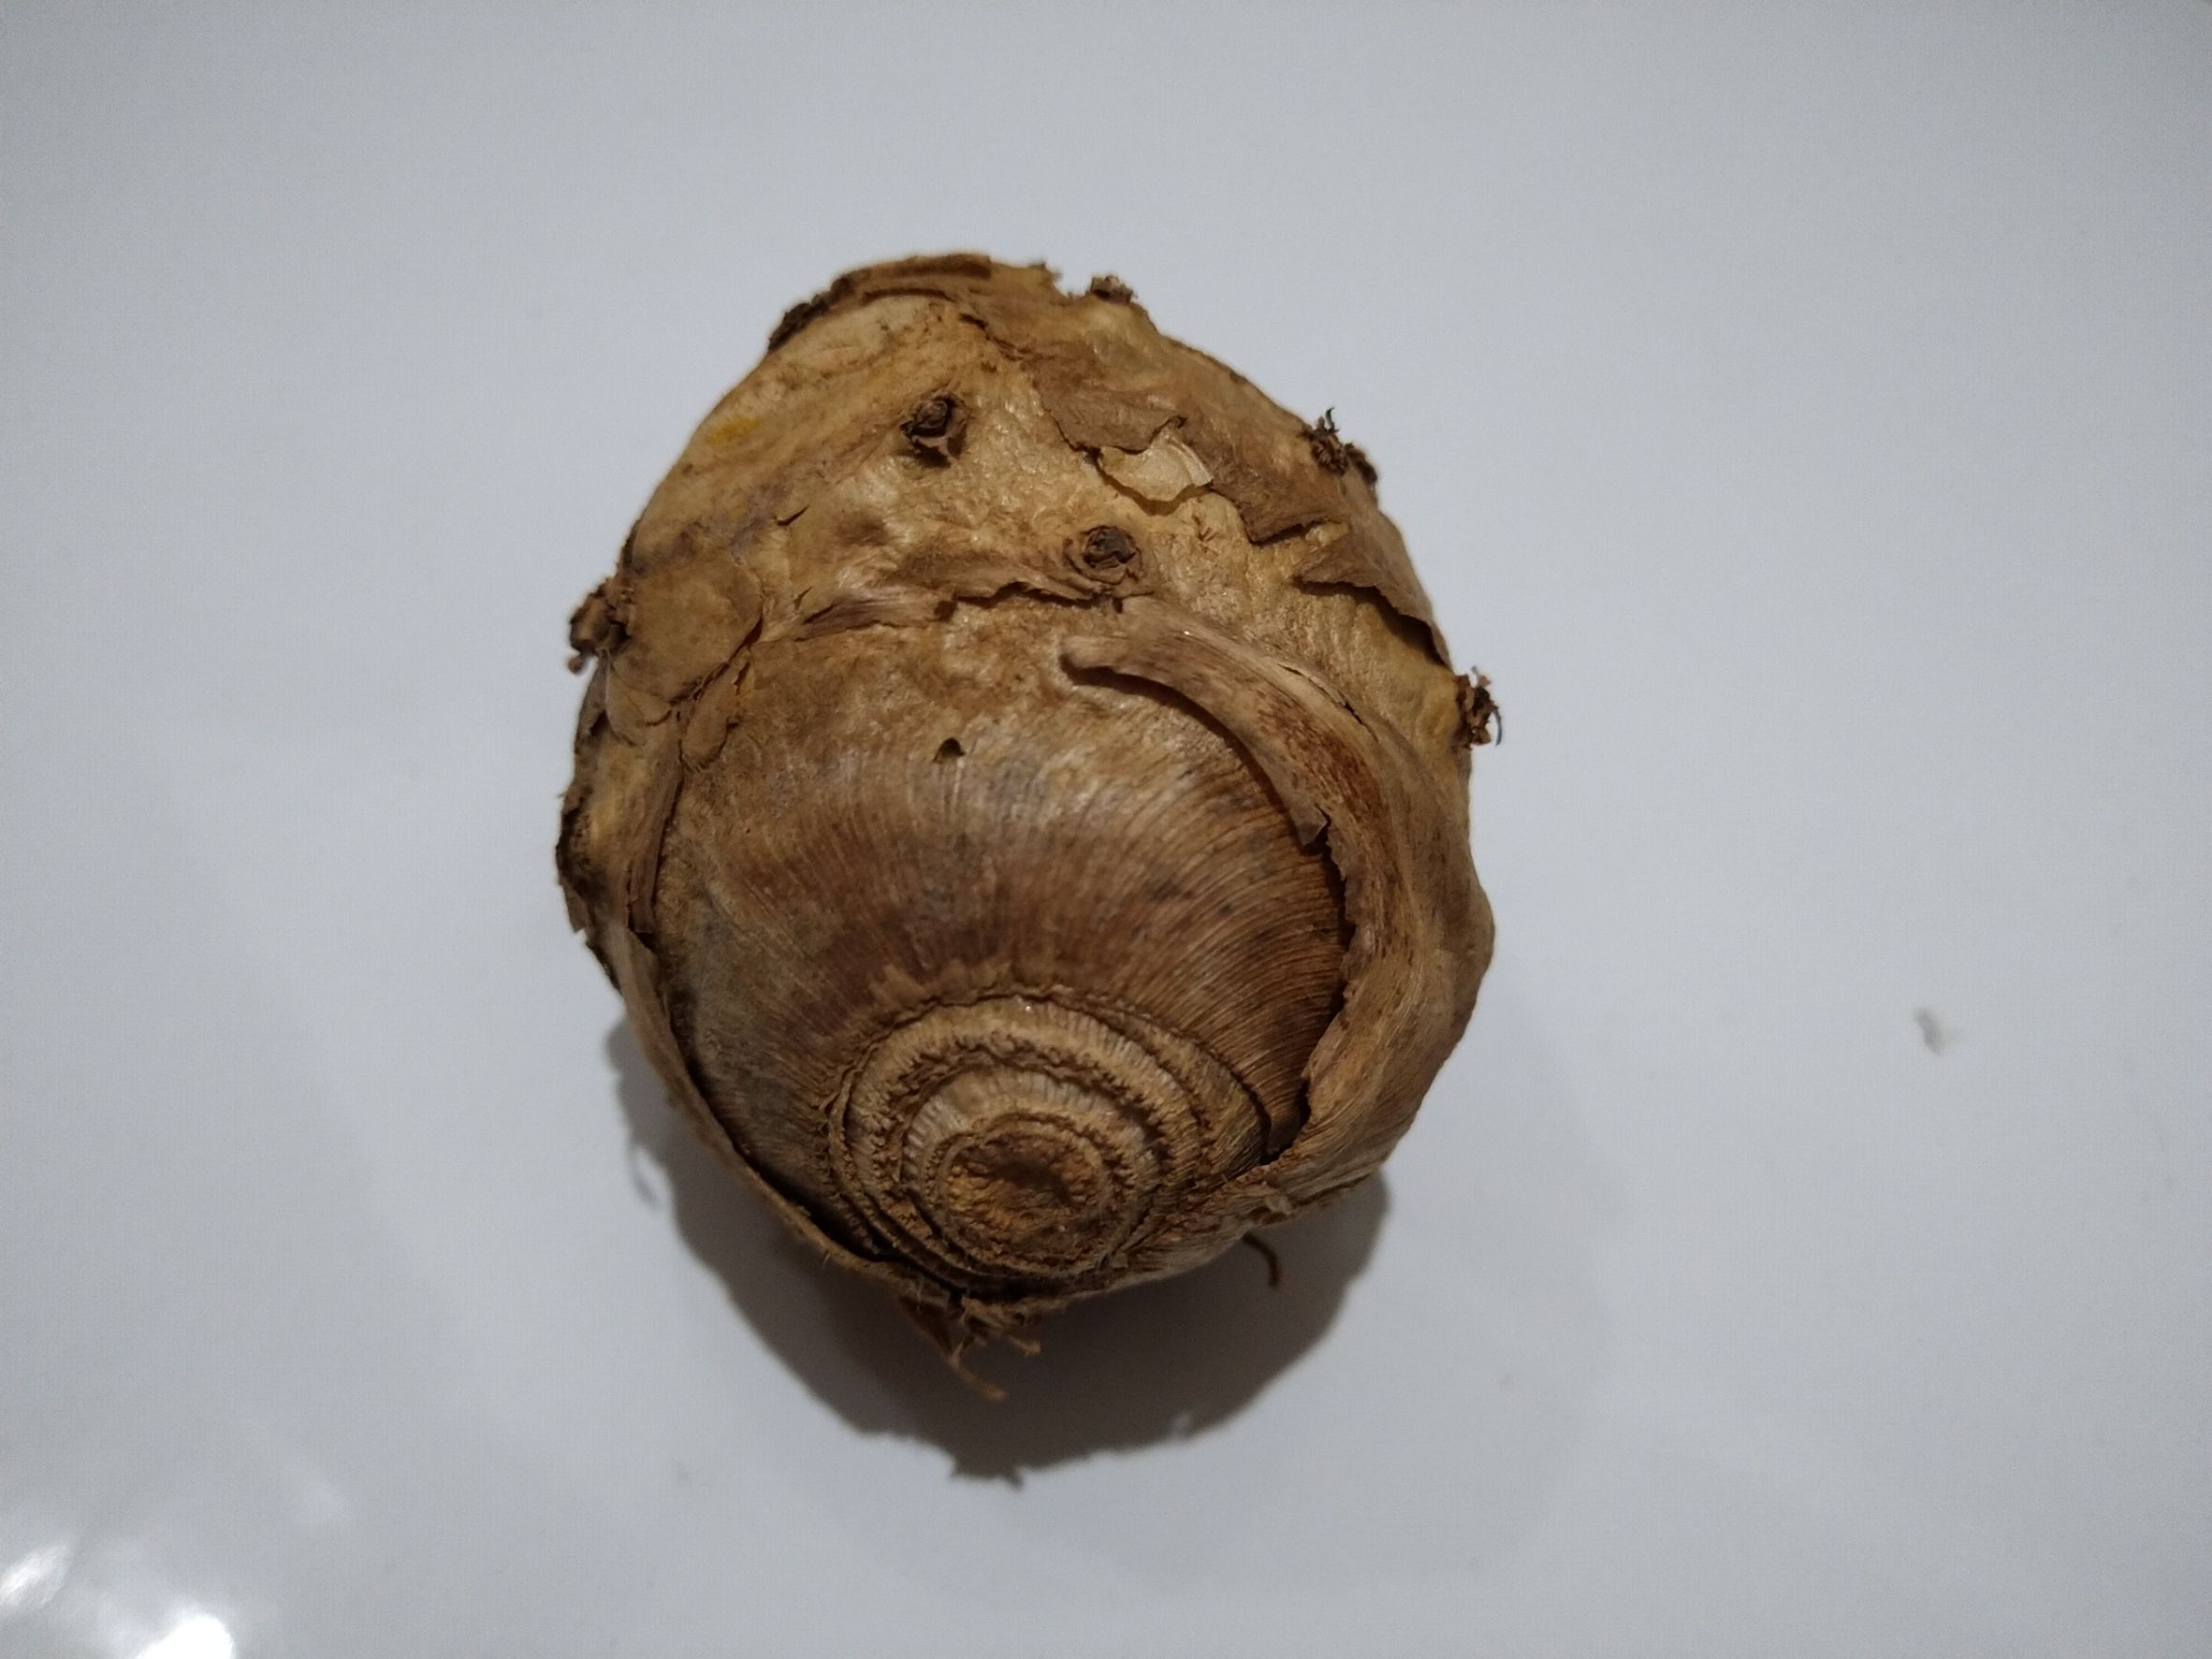Temulawak: (559, 258, 1501, 1363)
